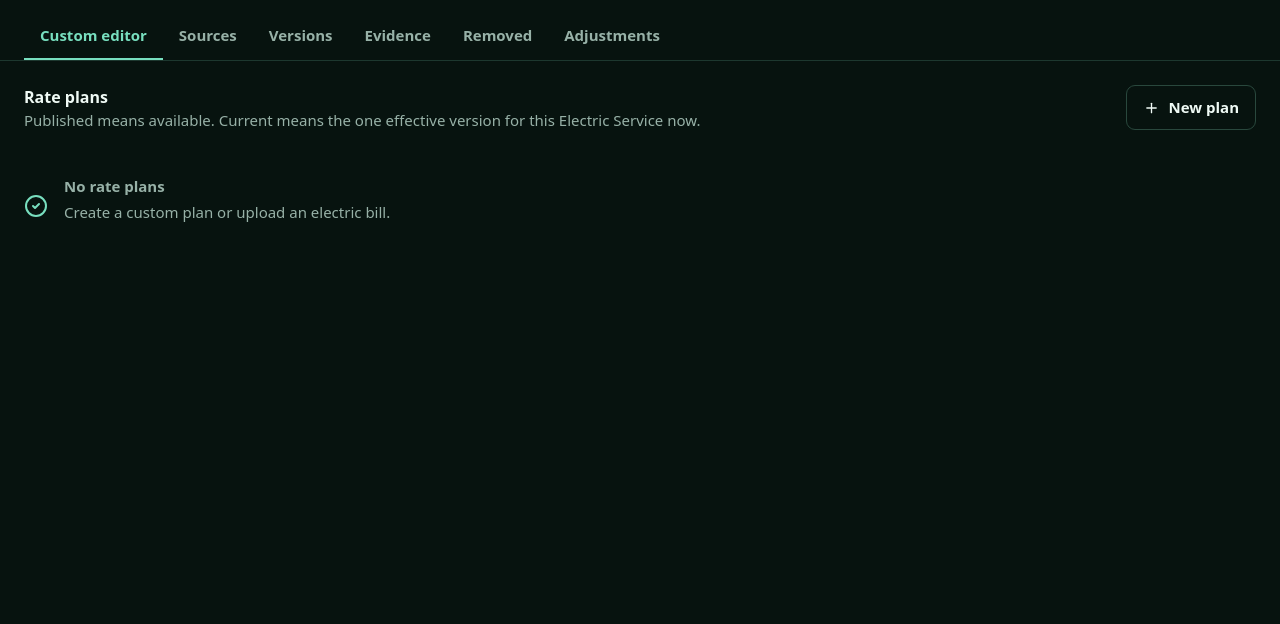
it: rate assignment, version, and source workflows › executes and renders a completed observable source-check job
Click the tab "Sources": [208, 36] box [163, 12, 253, 60]
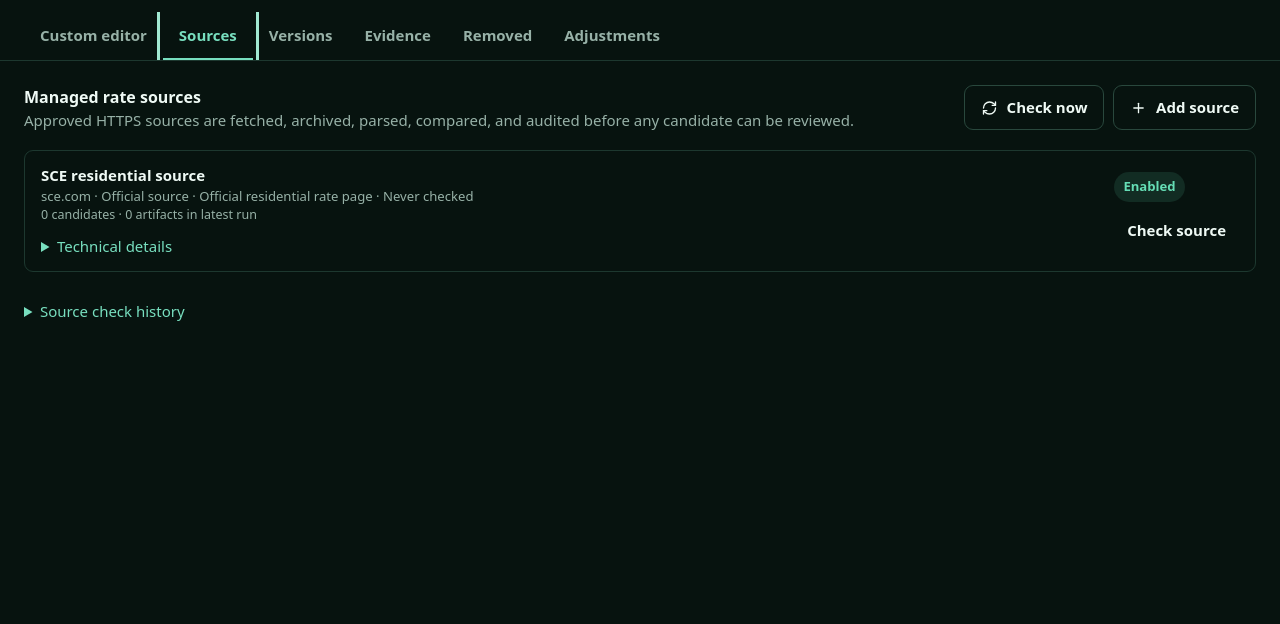
Expected: the text "SCE residential source" is shown, [41, 165, 205, 185]
Click the button with aria-label "Check rate sources now": [1034, 108] box [964, 85, 1104, 130]
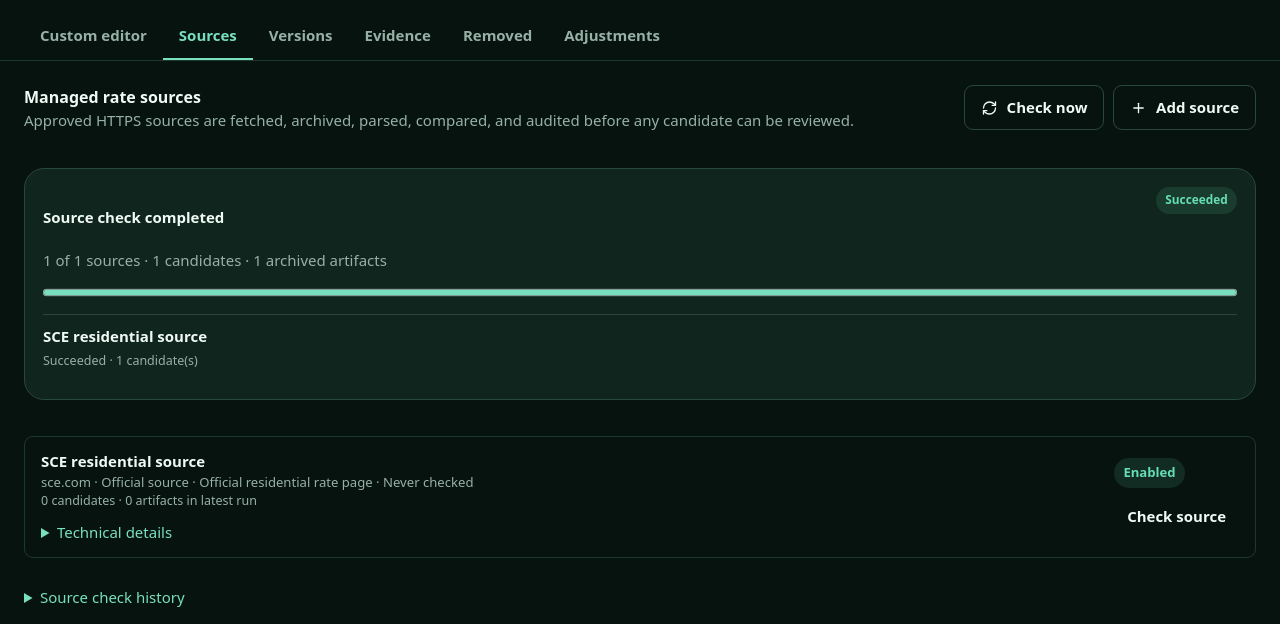
Expected: the heading "Source check completed" is shown, [43, 207, 224, 227]
Expected: the text "1 of 1 sources · 1 candidates · 1 archived artifacts" is shown, [43, 249, 387, 271]
